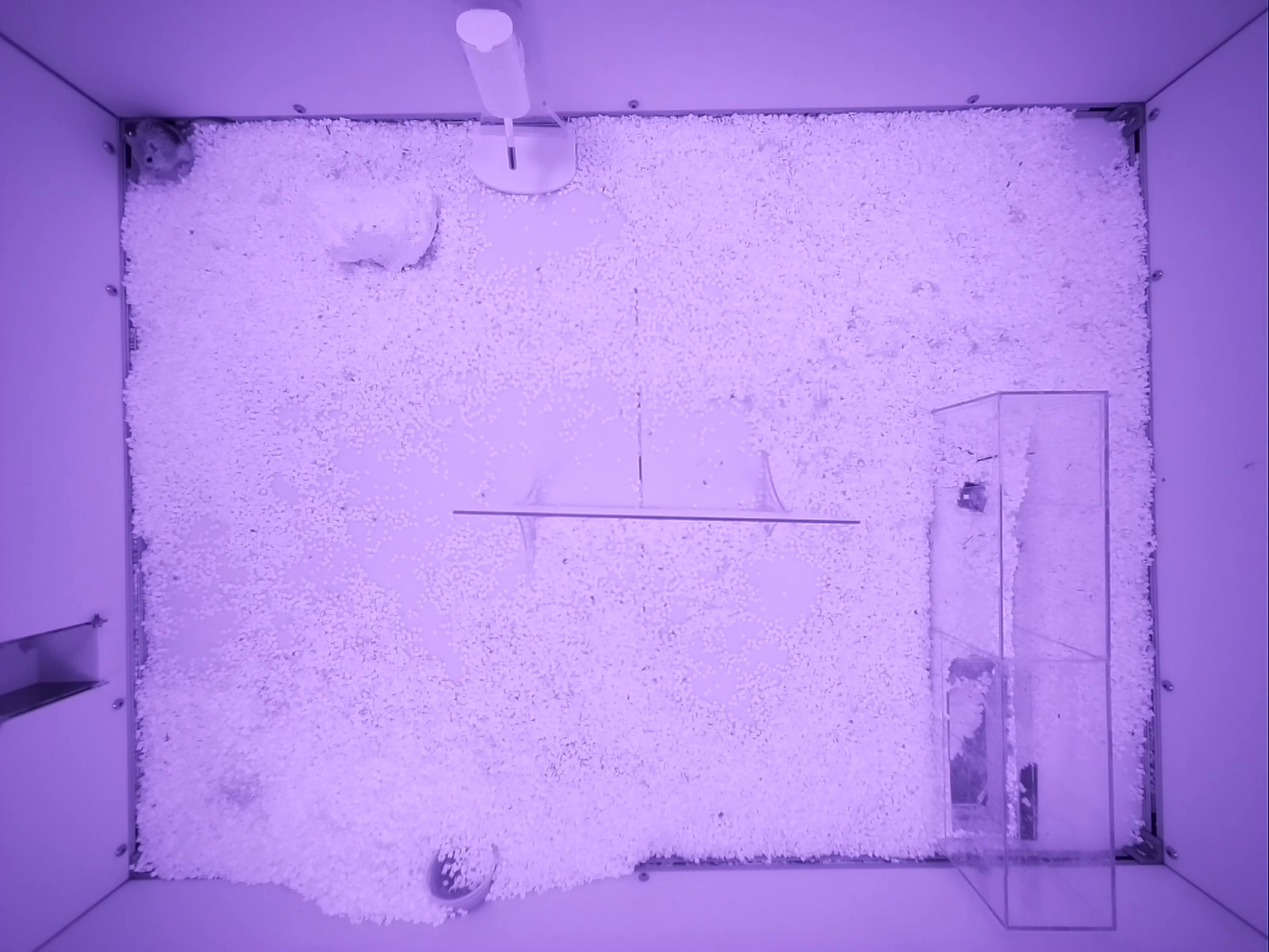adult_back: (125, 117, 194, 182)
